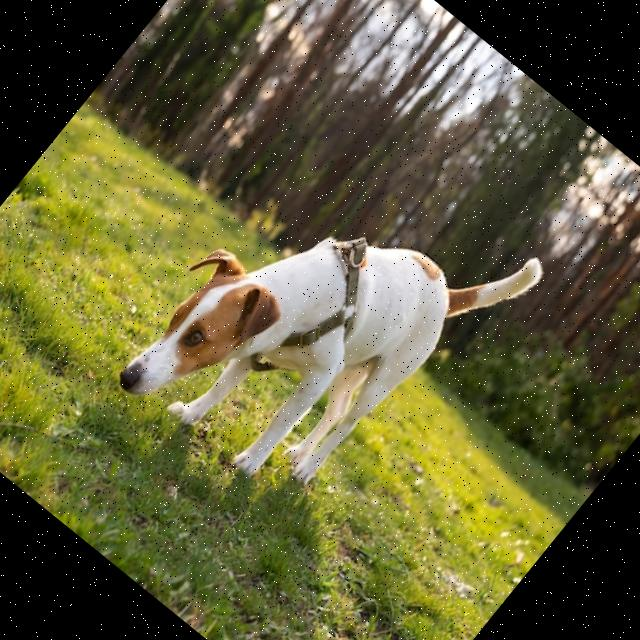Dog: (104, 94, 548, 550)
